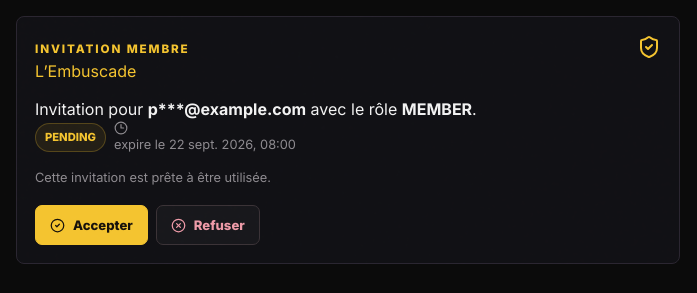
Test: Forum member invitations › declines an invitation without requiring a member UUID
Step 1. Click the button "Refuser" → (208, 225), box [156, 205, 260, 245]
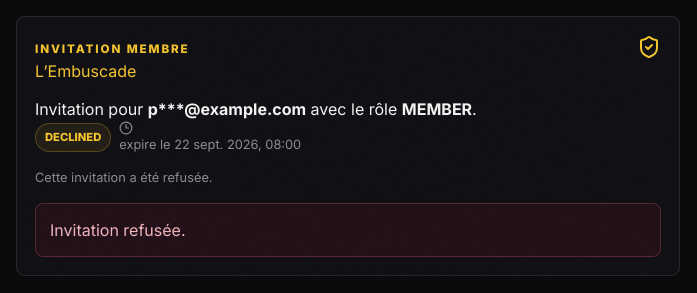
Check: the text "Invitation refusée." is shown, box [35, 203, 661, 257]
Check: the button "Accepter" is gone
